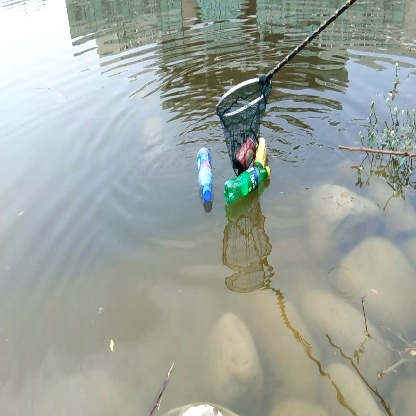bottle: (223, 165, 275, 205), (195, 147, 215, 202)
